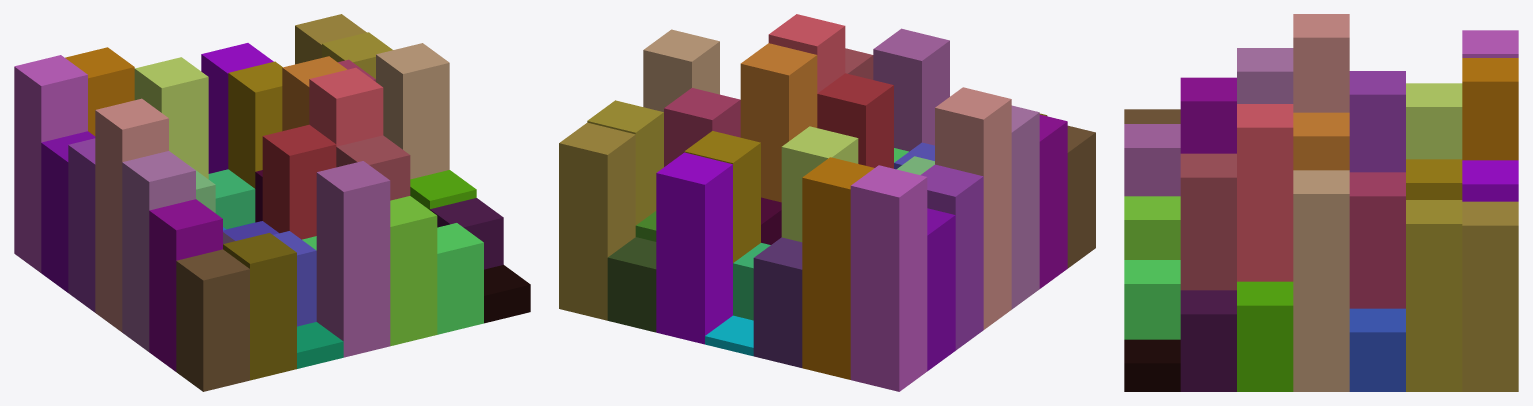
File: CeilingGrid.fbx
The picture shows the model from 3 angles, left to right: view 1: azimuth 30°, elevation 25°; view 2: azimuth 150°, elevation 25°; view 3: azimuth 270°, elevation 25°; orthographic projection. The views are drawn at different scales.
Visible parts, largest first — view 1: merge2; view 2: merge2; view 3: merge2.
Boxes of the visible parts, bbox=[...] form: merge2: bbox=[14, 14, 530, 391]; merge2: bbox=[559, 14, 1095, 391]; merge2: bbox=[1124, 14, 1518, 391].
Bounding box in the file's own units: 1000 × 607 × 1000.
